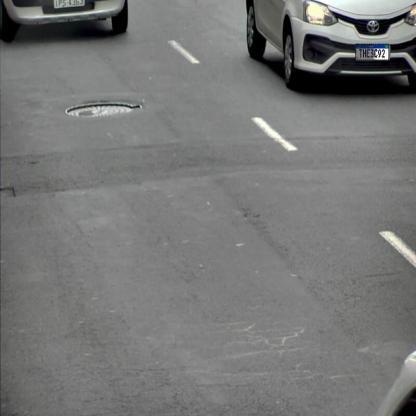PlacaM: (356, 44, 389, 60)
